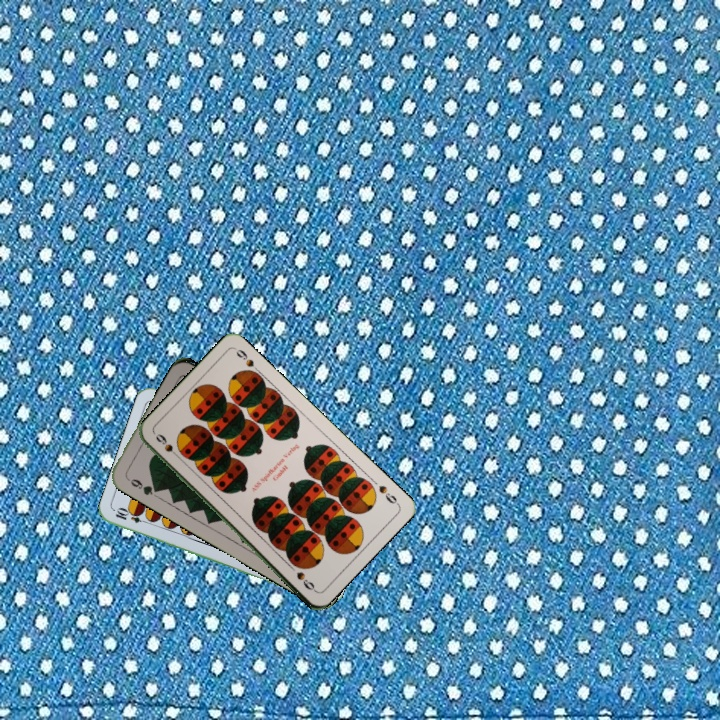E10: (111, 505, 152, 526)
G9: (122, 473, 162, 498)
S9: (151, 430, 184, 462), (374, 481, 401, 508)
